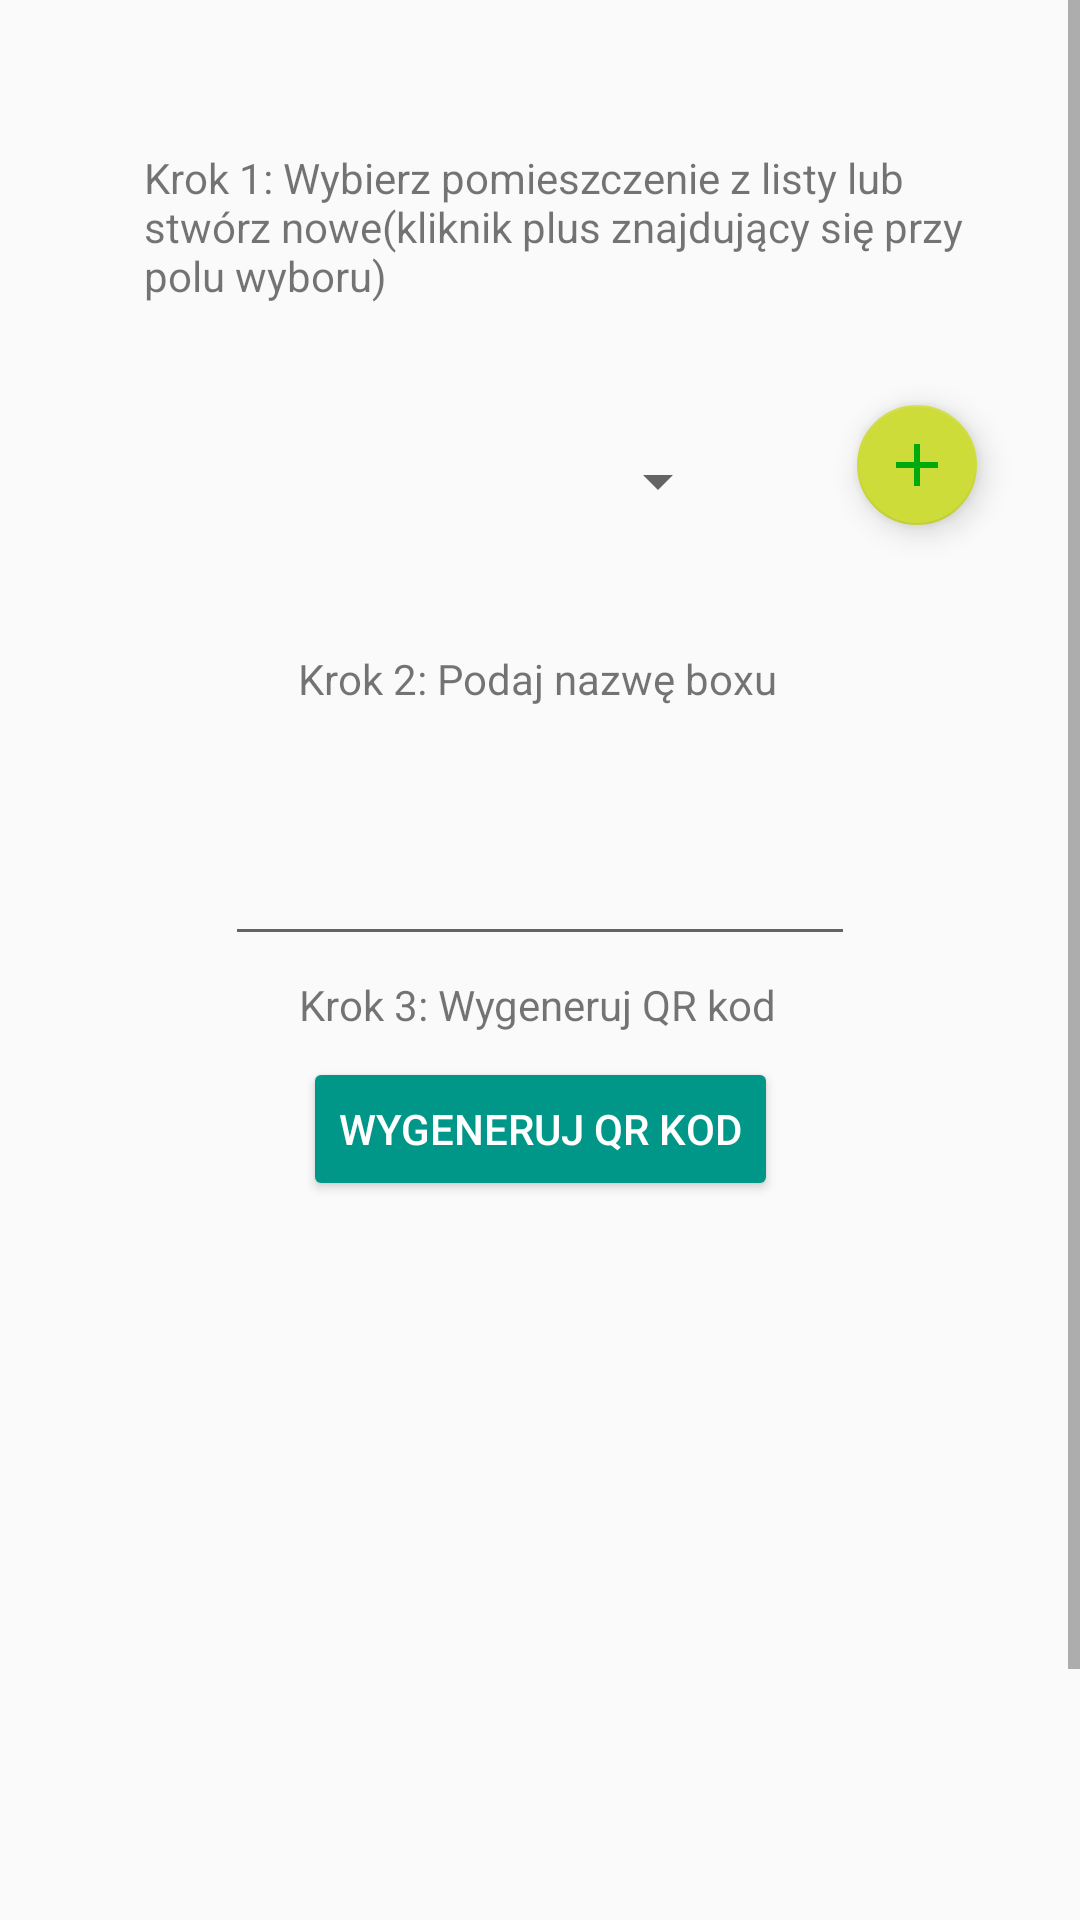

Named icons in this screenshot (1080w x 1920h) and their centers, (x=x, y=y):
add: (x=917, y=465)
